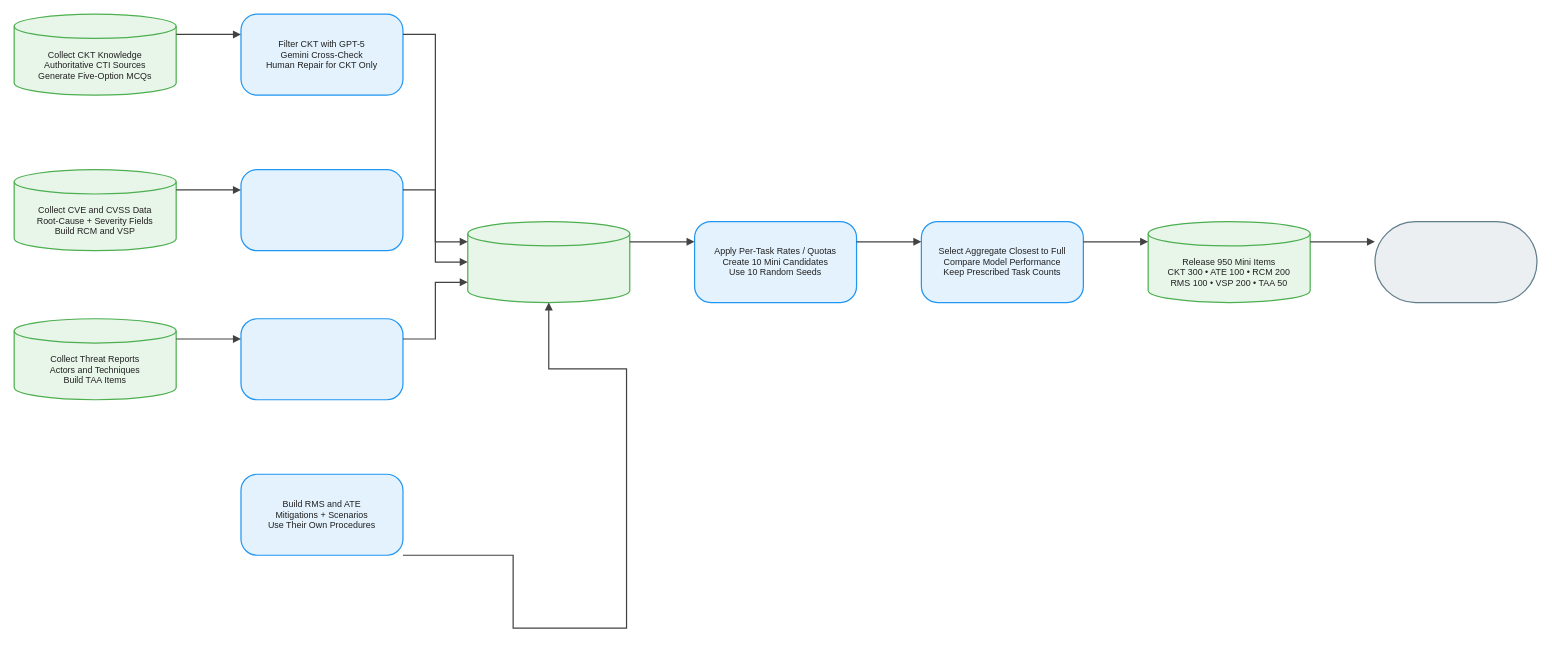
The diagram is 1552 pixels wide and 650 high, and some of its shapes have lost their labels. Here are the shapes that lost their labels. From the top down, the centre of each, then its label:
At [321,210]: "Deduplicate RCM / VSP Only Filter Invalid Records Do Not Apply Globally".
At [548,262]: "Assemble Full AthenaBench 8,100 Items • Six Tasks Preserve Task Boundaries".
At [1455,262]: "Evaluate Six Task Metrics Compare Mini with Full Report CTI Performance".
At [321,359]: "Leakage Check for TAA Only Inspect Actor Clues Keep Other Tasks Separate".
